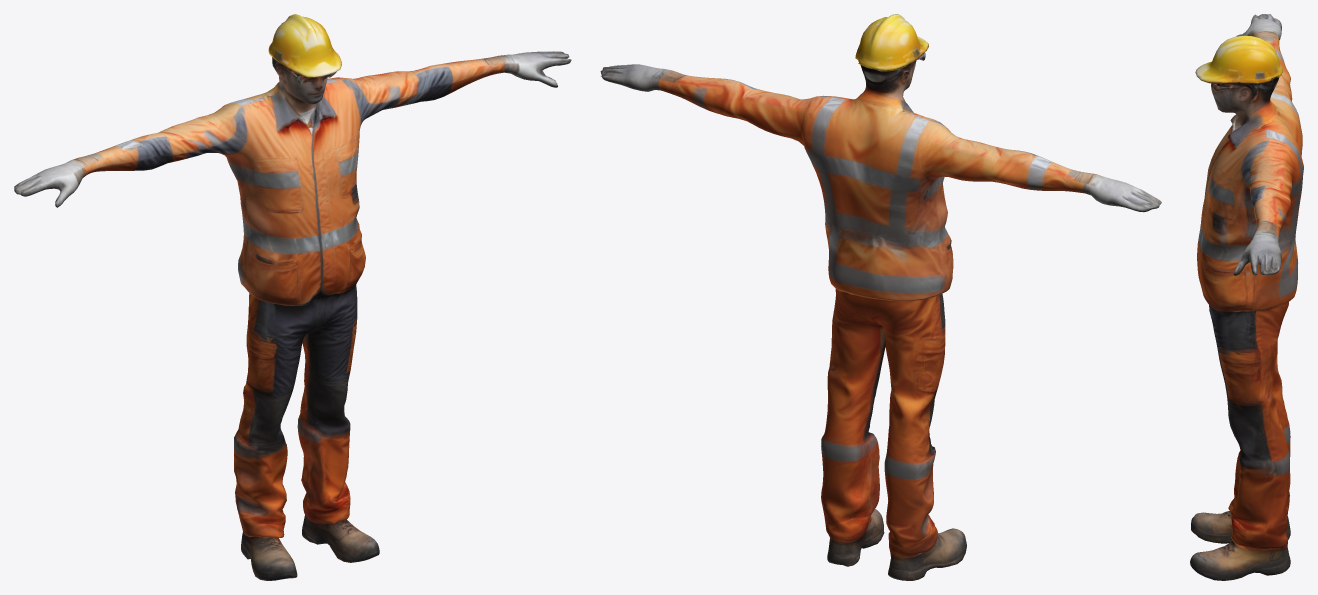
The model's file is Source.fbx.
The picture shows the model from 3 angles, left to right: view 1: azimuth 30°, elevation 25°; view 2: azimuth 150°, elevation 25°; view 3: azimuth 270°, elevation 25°; orthographic projection. The views are drawn at different scales.
Parts seen in each view (by area): view 1: Mesh1_Mesh1.122; view 2: Mesh1_Mesh1.122; view 3: Mesh1_Mesh1.122.
Boxes of the visible parts, <box> form: Mesh1_Mesh1.122: <box>14,14,571,580</box>; Mesh1_Mesh1.122: <box>600,14,1161,580</box>; Mesh1_Mesh1.122: <box>1190,14,1303,580</box>.
Size of the model in its own units: 199 by 185 by 36.73.
Materials: 1 (1 with a texture image).
